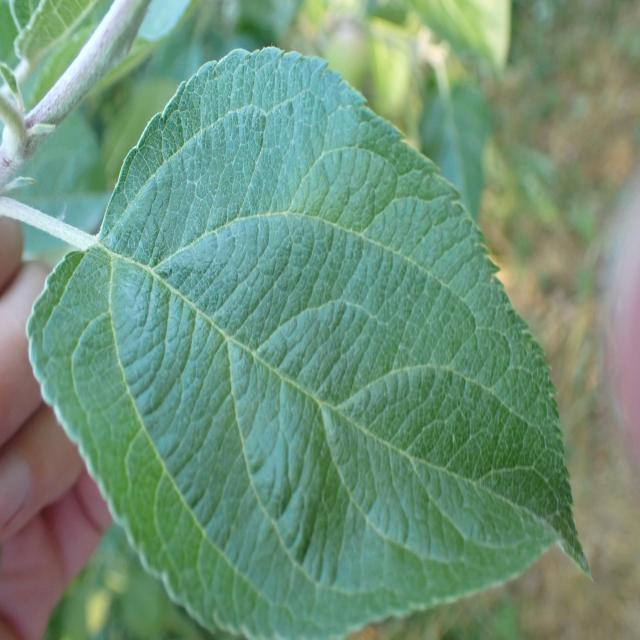healthy: (26, 45, 593, 639)
